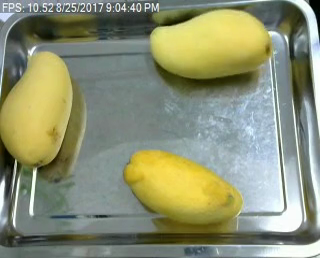Mango: (120, 148, 247, 228), (0, 47, 75, 173), (149, 7, 274, 80)
